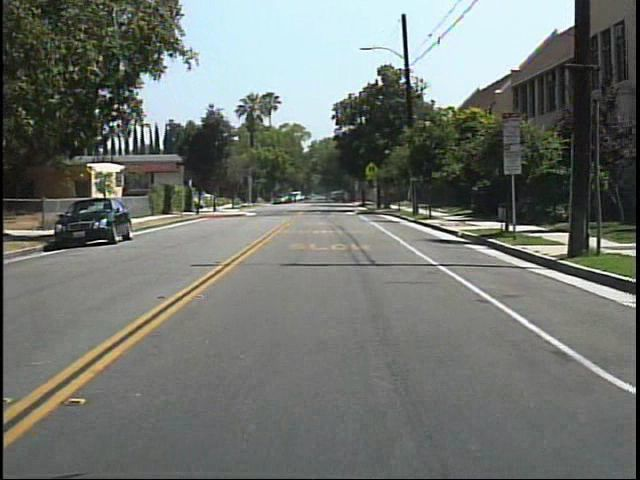person: (320, 188, 335, 206)
